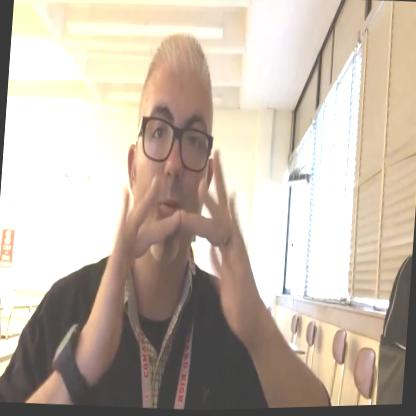Internet: (83, 150, 275, 398)
